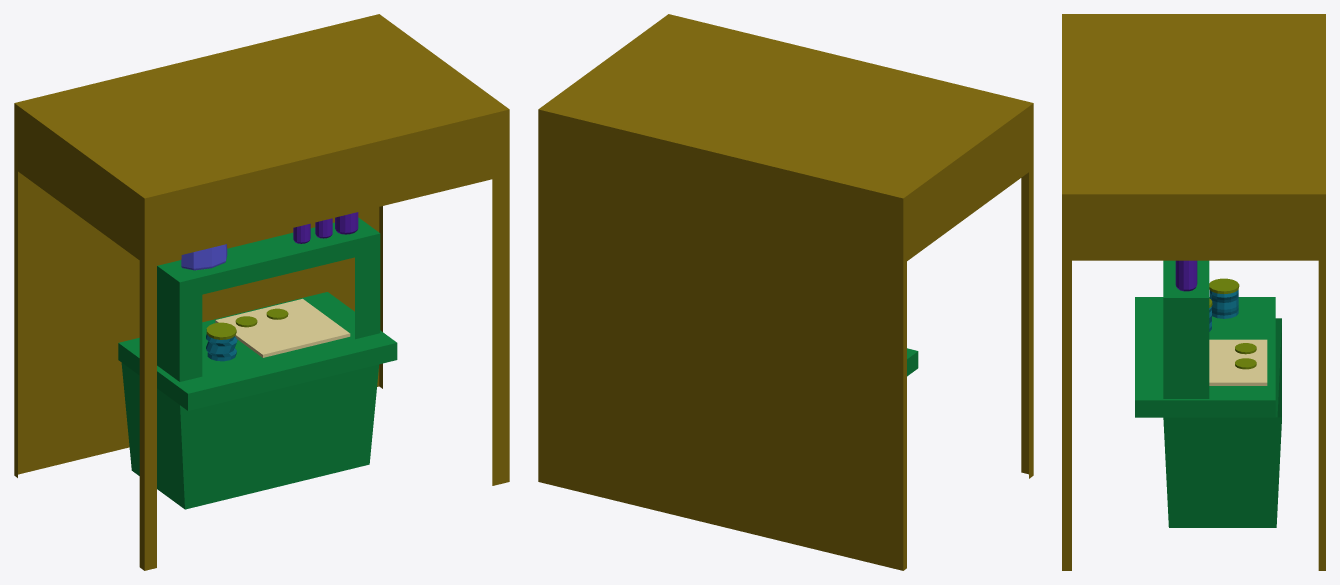
The model's file is gorditas.fbx.
The picture shows the model from 3 angles, left to right: view 1: azimuth 30°, elevation 25°; view 2: azimuth 150°, elevation 25°; view 3: azimuth 270°, elevation 25°; orthographic projection.
Visible parts, largest first — view 1: gorditas_2; view 2: gorditas_2; view 3: gorditas_2.
Boxes of the visible parts, x1,y1,x2,y2 form: gorditas_2: (14,14,509,570); gorditas_2: (538,14,1033,570); gorditas_2: (1062,14,1325,570).
Bounding box in the file's own units: 113 × 110 × 69.9.
